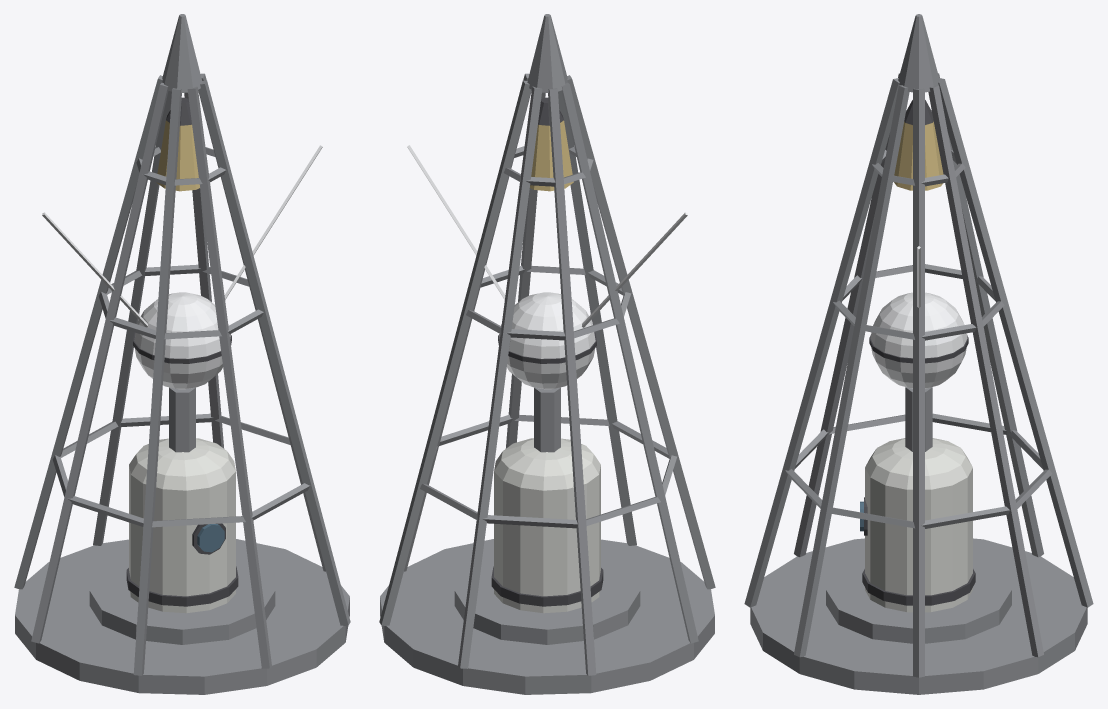
Rendered from sputnik-2.glb.
The picture shows the model from 3 angles, left to right: view 1: azimuth 30°, elevation 25°; view 2: azimuth 150°, elevation 25°; view 3: azimuth 270°, elevation 25°; orthographic projection.
Visible parts, largest first — view 1: sputnik-2; view 2: sputnik-2; view 3: sputnik-2.
Boxes of the visible parts, <box> form: sputnik-2: <box>14,14,350,694</box>; sputnik-2: <box>379,14,715,694</box>; sputnik-2: <box>744,14,1093,694</box>.
Bounding box in the file's own units: 2.07 × 3.97 × 2.07.
